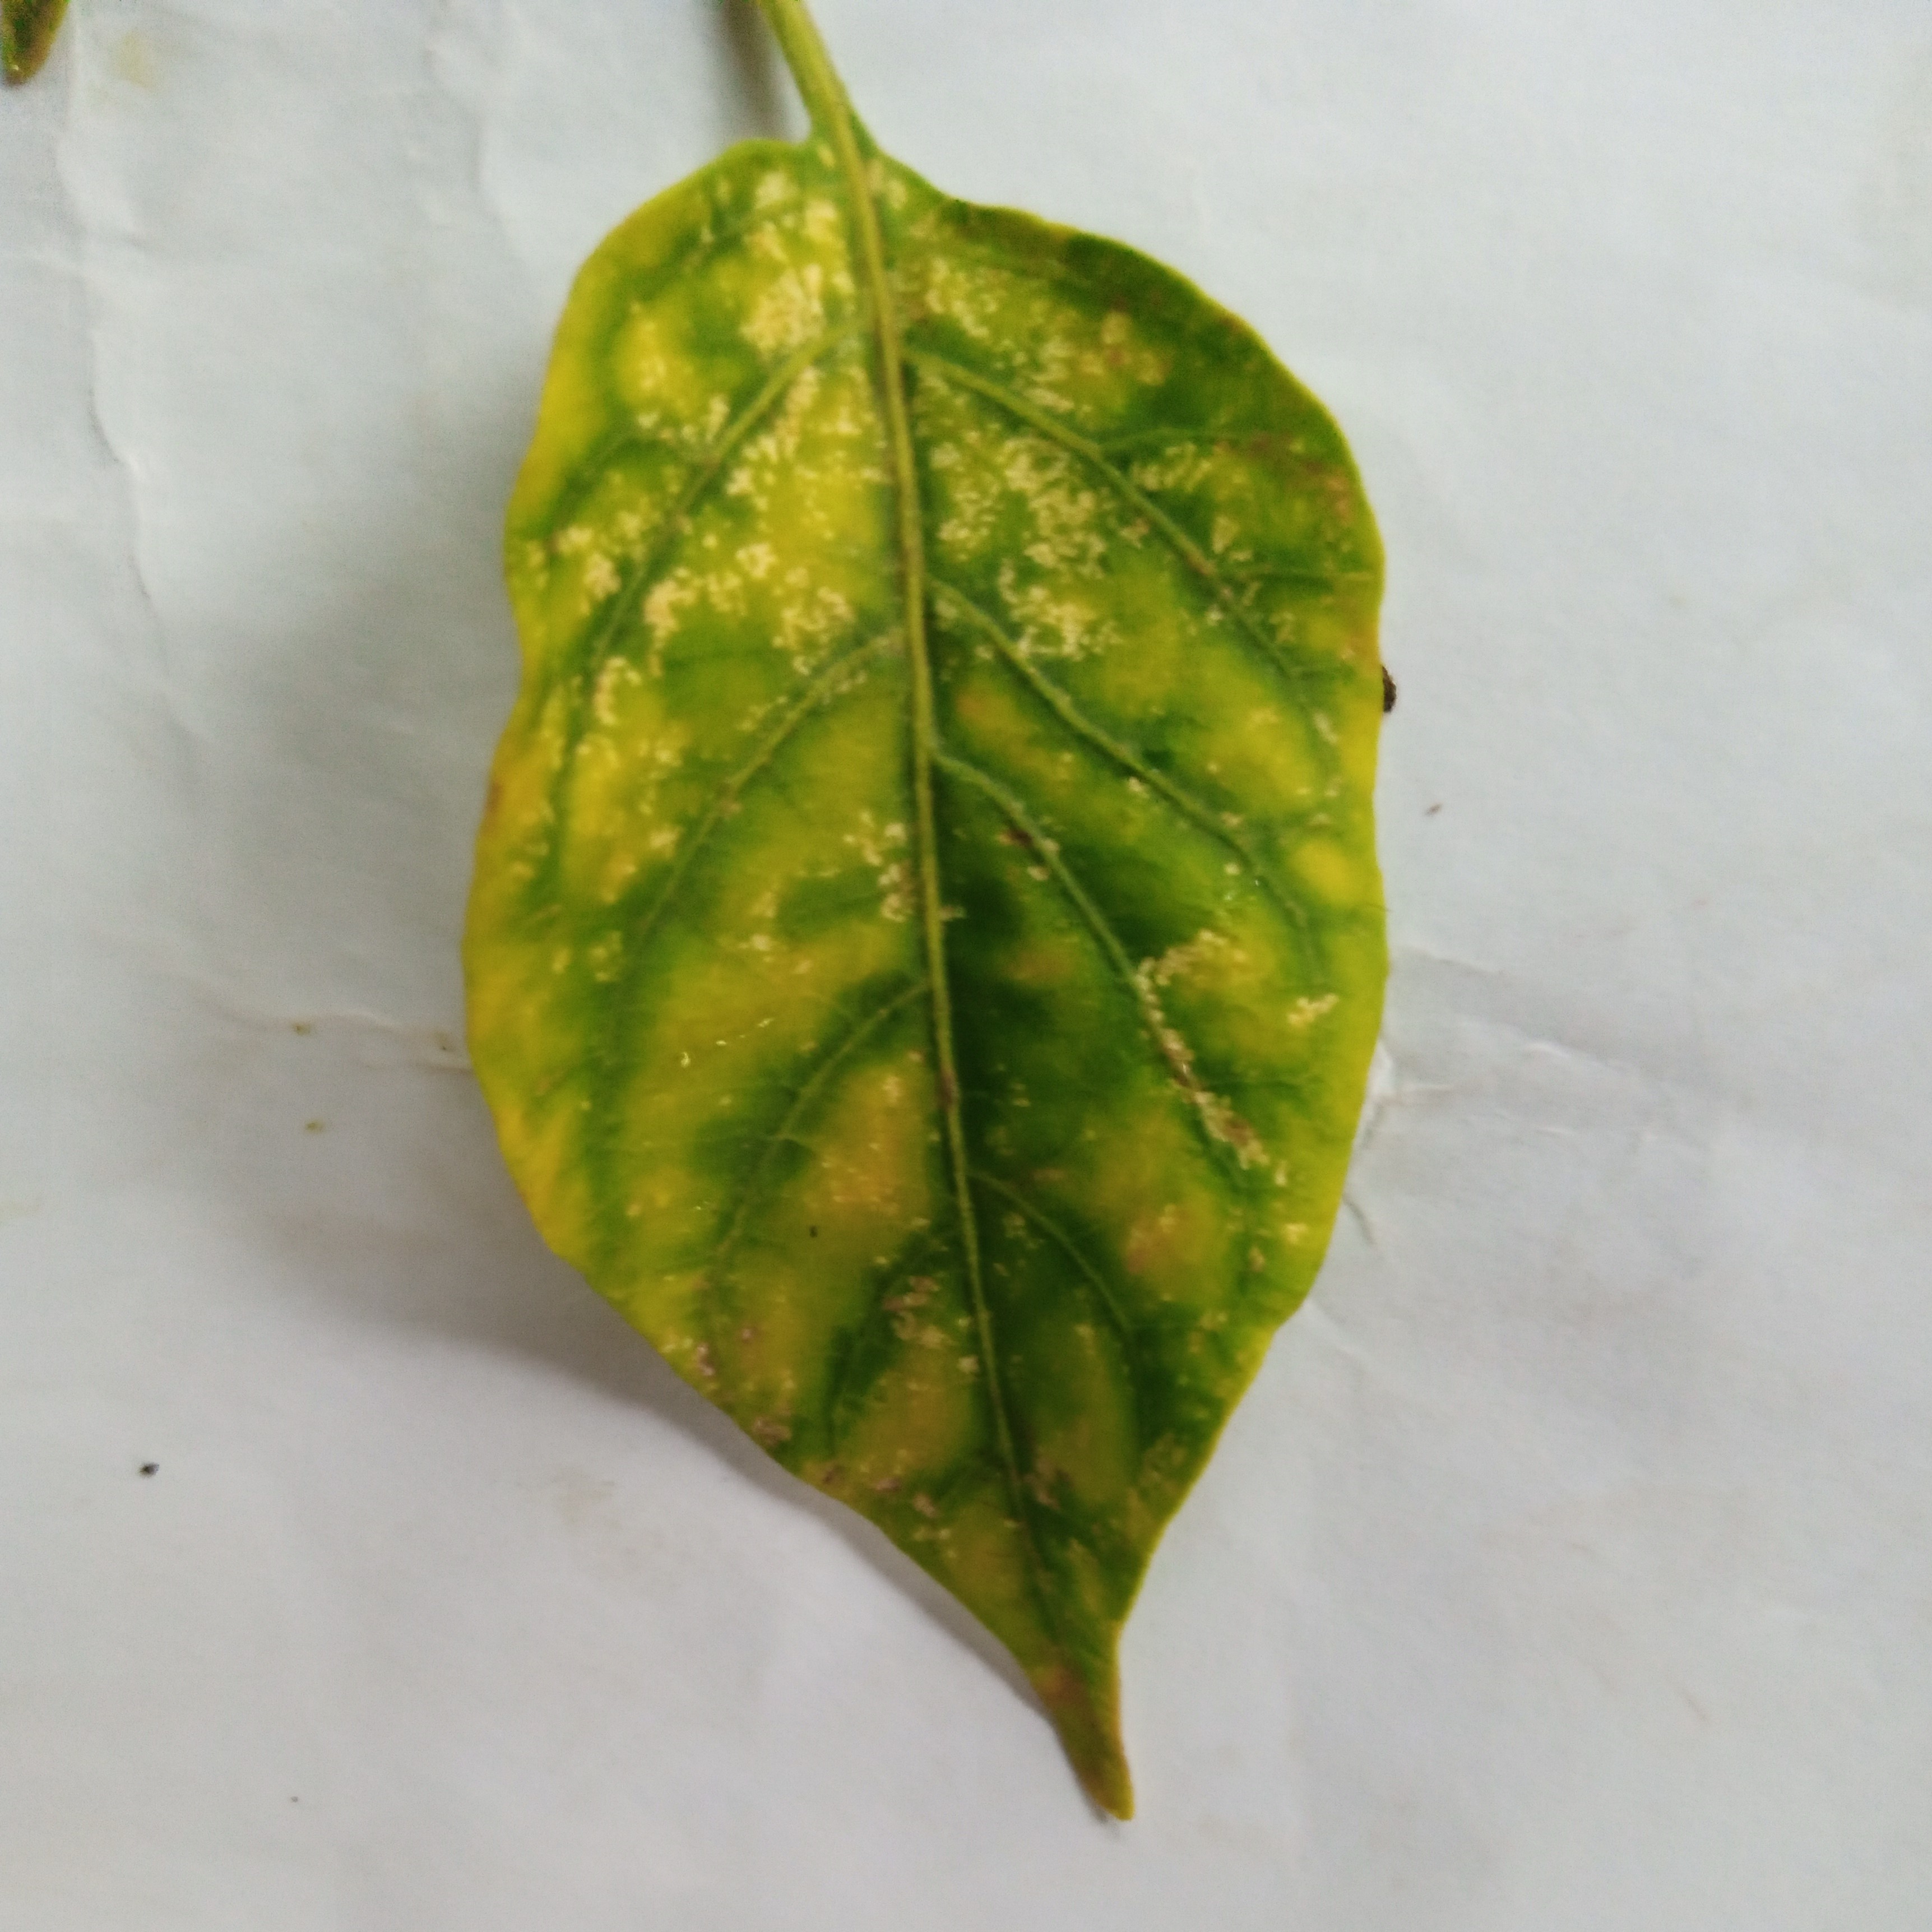Leaf: (345, 83, 1651, 1932)
